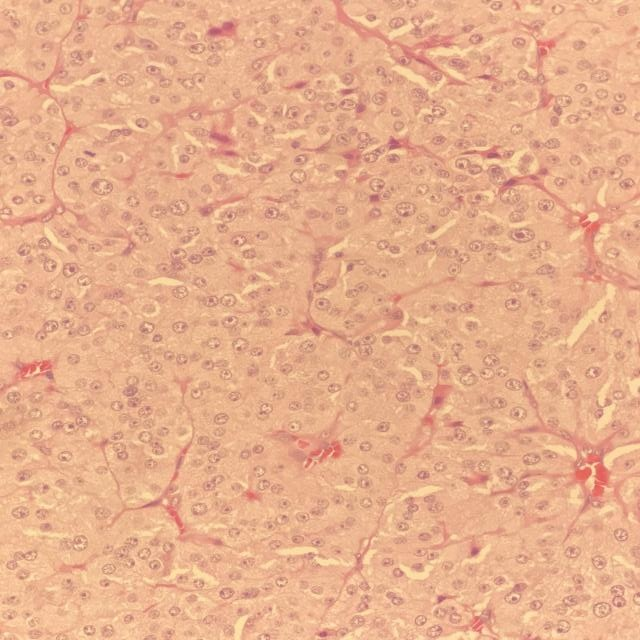TC: (58, 526, 105, 559), (83, 165, 125, 201), (105, 65, 145, 99), (304, 288, 341, 319), (497, 581, 535, 610), (501, 399, 534, 432), (290, 336, 328, 364), (212, 308, 247, 338), (224, 223, 256, 254), (179, 497, 217, 523), (206, 404, 240, 432), (166, 191, 197, 221), (54, 258, 90, 283), (391, 194, 420, 225), (160, 315, 193, 341), (501, 288, 525, 322), (505, 225, 539, 249), (362, 167, 391, 195), (243, 460, 278, 483), (447, 152, 480, 176), (452, 369, 481, 395), (282, 413, 310, 439), (397, 342, 429, 363), (282, 168, 315, 188), (211, 585, 241, 606), (83, 373, 110, 395)
